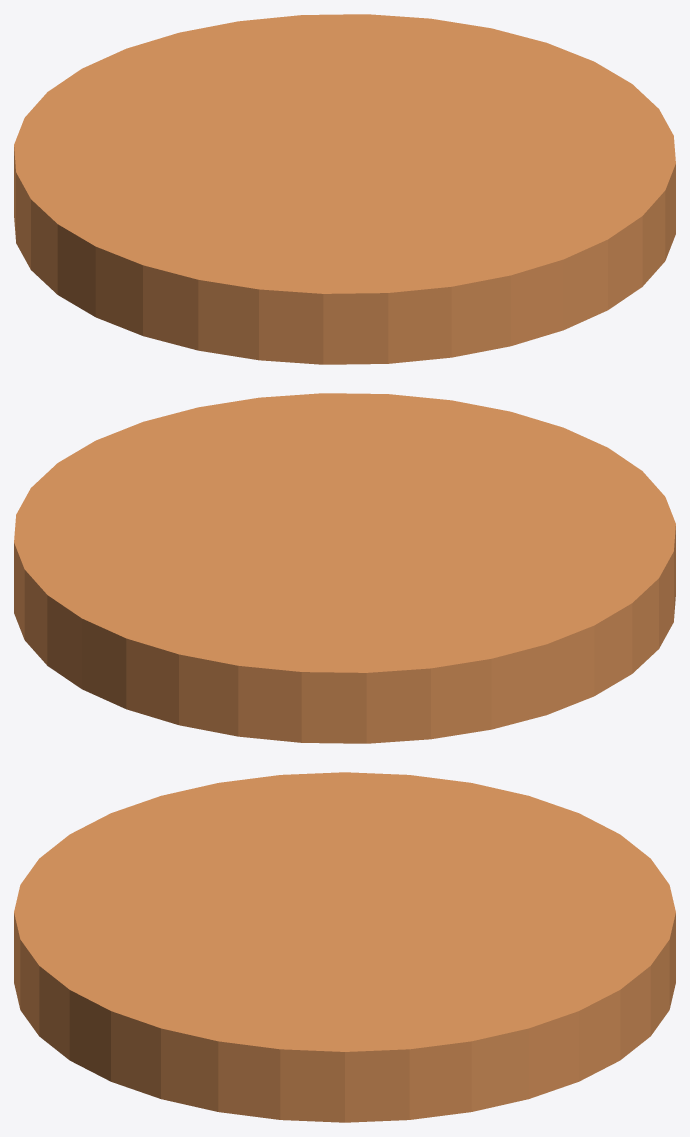
File: pandeabajo.glb
The picture shows the model from 3 angles, top to bottom: view 1: azimuth 30°, elevation 25°; view 2: azimuth 150°, elevation 25°; view 3: azimuth 270°, elevation 25°; orthographic projection.
Parts seen in each view (by area): view 1: Pan_inferior; view 2: Pan_inferior; view 3: Pan_inferior.
Part boxes in pixels (x1=…): Pan_inferior: x1=14, y1=14, x2=675, y2=364; Pan_inferior: x1=14, y1=393, x2=675, y2=743; Pan_inferior: x1=14, y1=772, x2=675, y2=1122.
Size of the model in its own units: 2 by 0.2358 by 2.
